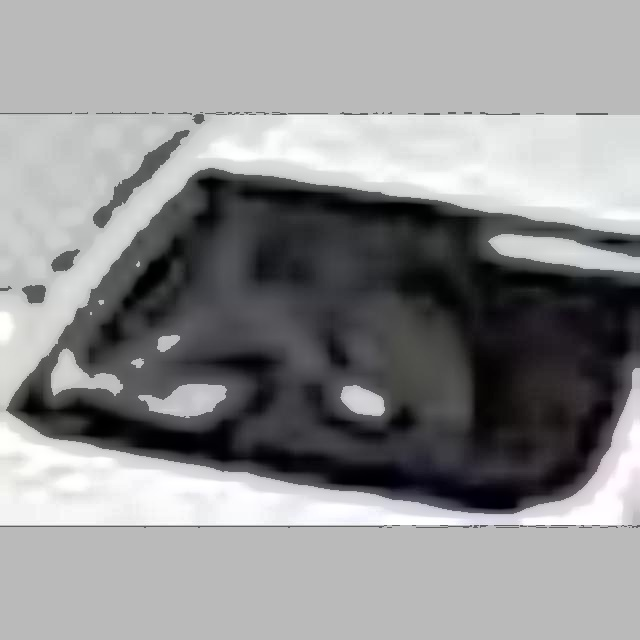pakai: (205, 224, 471, 441)
